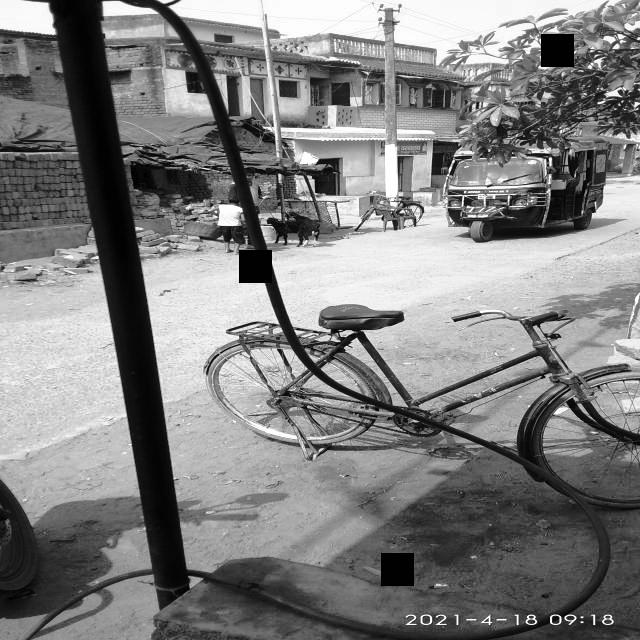Auto-Rickshaw: (435, 126, 614, 246)
